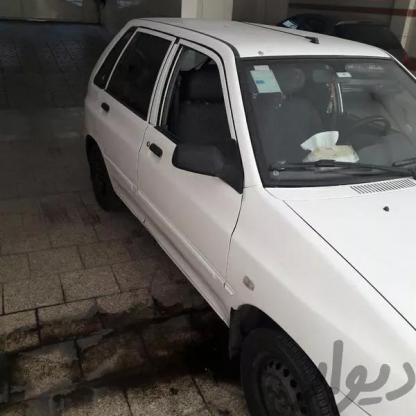Car: (76, 4, 416, 416)
